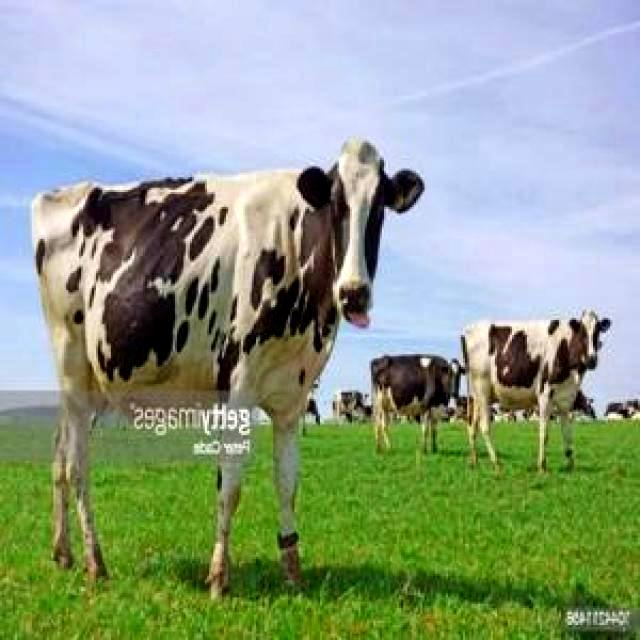COW: (32, 139, 424, 582), (209, 410, 250, 597)
